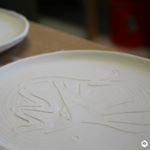other: (11, 69, 107, 141)
